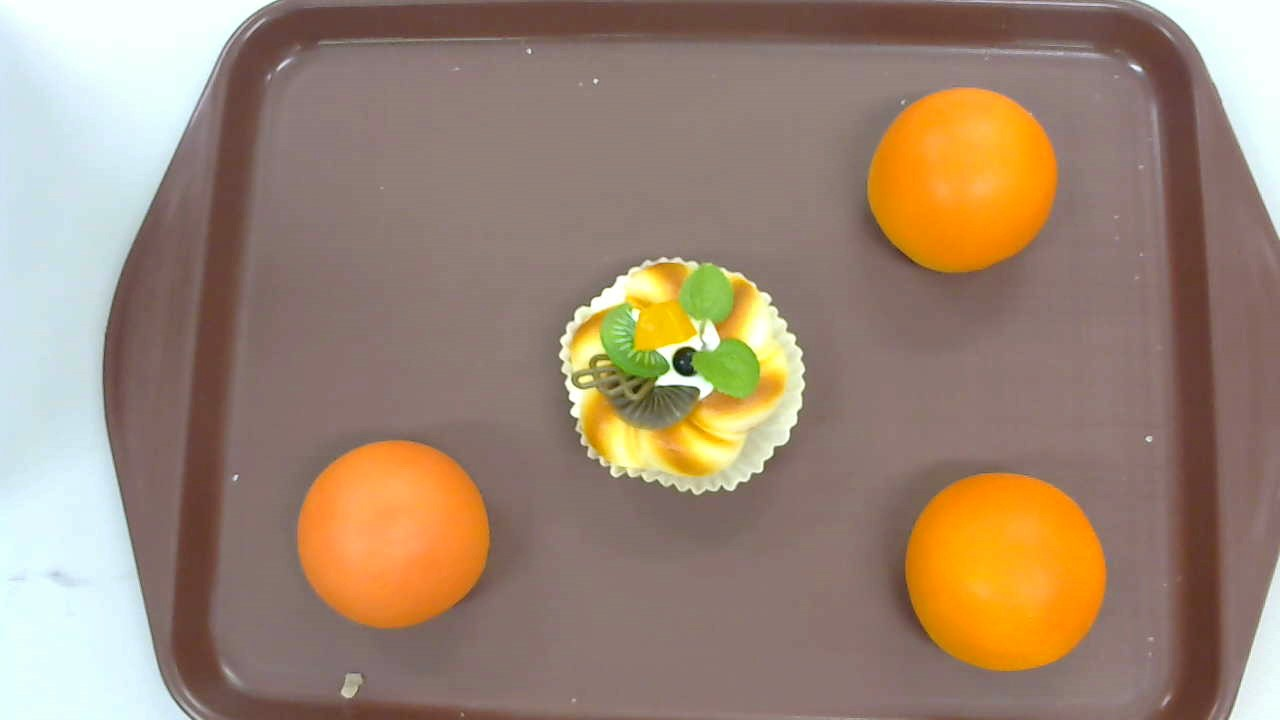bun: (904, 471, 1107, 672), (297, 441, 490, 631), (866, 85, 1058, 274)
fruit tart: (558, 258, 806, 496)
